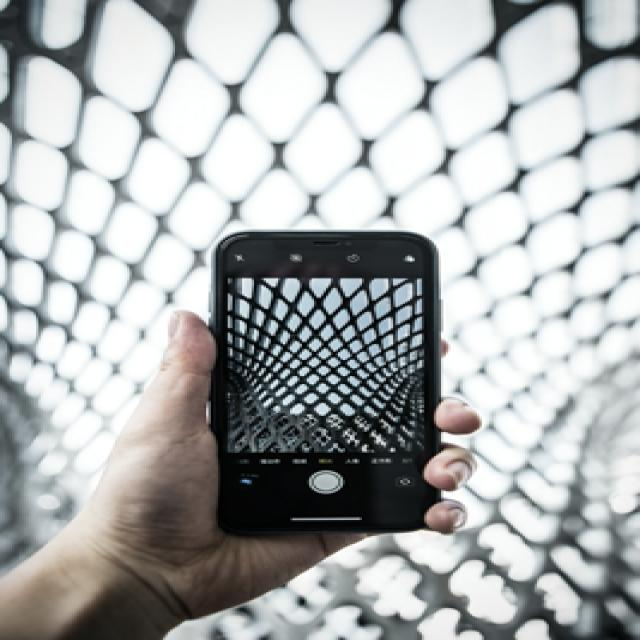cellphone: (209, 229, 441, 534)
